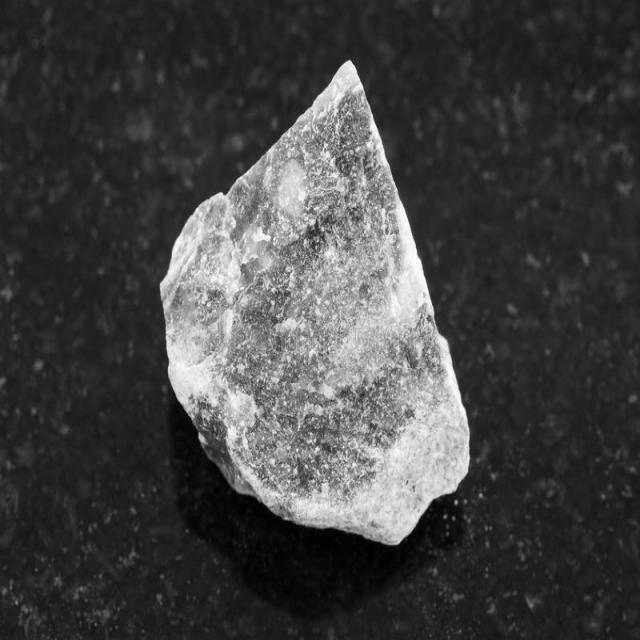Stone: (161, 62, 469, 544)
